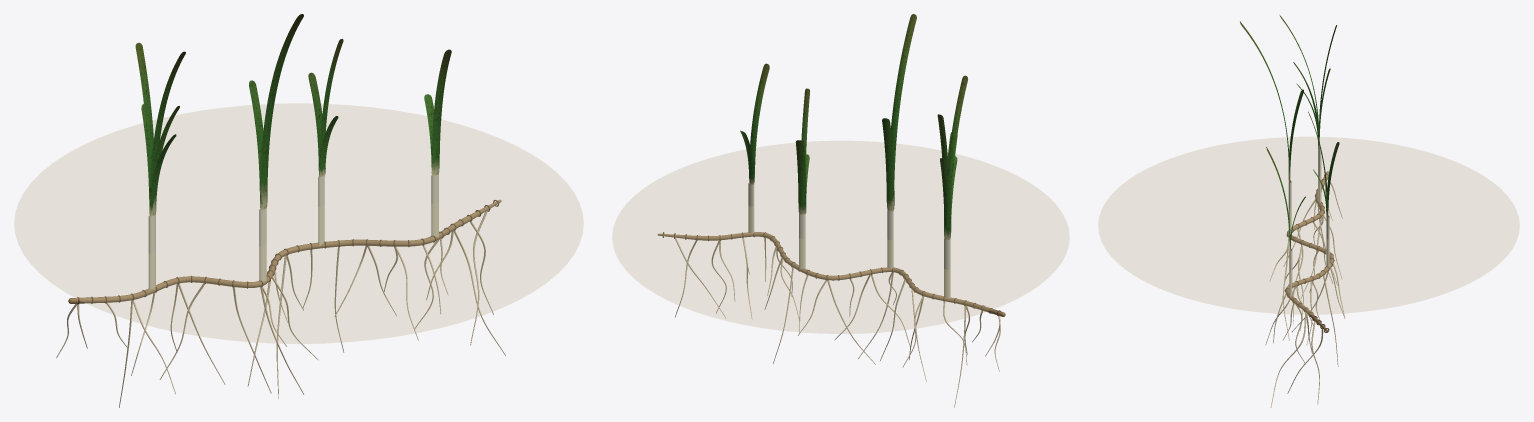
The model's file is thalassia-hemprichii.glb.
3 views of the same model, side by side, from view 1: azimuth 30°, elevation 25°; view 2: azimuth 150°, elevation 25°; view 3: azimuth 270°, elevation 25° (orthographic). The views are drawn at different scales.
Parts seen in each view (by area): view 1: Sediment, Leaves, Roots, Rhizome, LeafSheaths, LeafScars; view 2: Sediment, Leaves, Roots, Rhizome, LeafSheaths, LeafScars; view 3: Sediment, Roots, Leaves, Rhizome, LeafSheaths, LeafScars.
Part boxes in pixels (x1,y1,x2,y2): Sediment: (14,103,583,343); Leaves: (135,14,451,216); Roots: (56,210,505,407); Rhizome: (68,199,501,303); LeafSheaths: (148,174,438,289); LeafScars: (77,200,498,304); Sediment: (612,141,1069,333); Leaves: (740,14,967,239); Roots: (675,237,1000,407); Rhizome: (657,232,1005,316); LeafSheaths: (748,182,950,298); LeafScars: (662,232,1000,316); Sediment: (1098,137,1519,314); Roots: (1265,178,1345,407); Leaves: (1240,14,1339,251); Rhizome: (1285,171,1333,332); LeafSheaths: (1288,147,1329,297); LeafScars: (1284,173,1334,332).
Size of the model in its own units: 0.4134 by 0.3315 by 0.4134.
6 materials, 1 textured.
